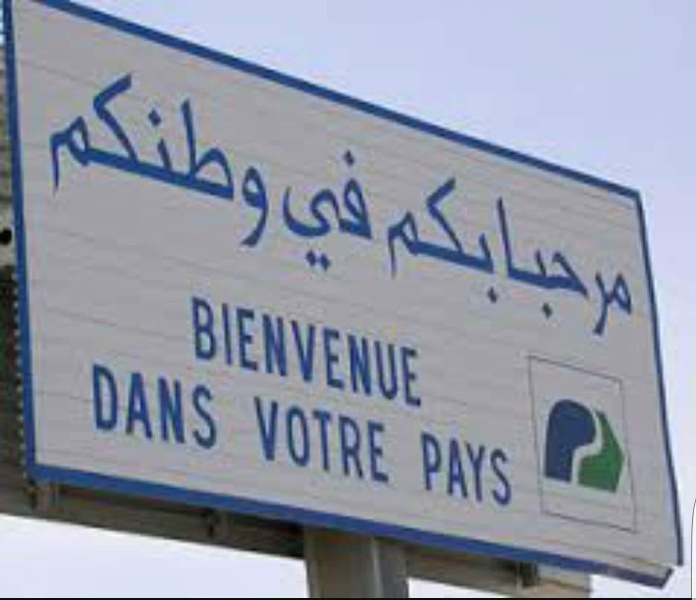text: (65, 55, 80, 255), (81, 55, 96, 255), (97, 55, 112, 255), (113, 55, 128, 255), (129, 55, 144, 255), (145, 55, 160, 255), (161, 55, 176, 255), (177, 55, 192, 255), (193, 55, 208, 255), (209, 55, 224, 255), (225, 55, 240, 255), (241, 55, 256, 255), (257, 55, 272, 255), (50, 55, 64, 255), (497, 195, 512, 346), (513, 195, 528, 346), (529, 195, 544, 346), (545, 195, 560, 346), (561, 195, 576, 346), (577, 195, 592, 346), (593, 195, 608, 346), (609, 195, 624, 346), (401, 164, 416, 306), (417, 164, 432, 306), (433, 164, 448, 306), (449, 164, 464, 306), (465, 164, 480, 306), (481, 164, 496, 306), (289, 141, 304, 281), (305, 141, 320, 281), (321, 141, 336, 281), (337, 141, 352, 281), (353, 141, 368, 281), (387, 164, 400, 306), (625, 195, 637, 346), (193, 295, 208, 411), (209, 295, 224, 411), (225, 295, 240, 411), (241, 295, 256, 411), (257, 295, 272, 411), (273, 295, 288, 411), (289, 295, 304, 411), (305, 295, 320, 411), (321, 295, 336, 411), (337, 295, 352, 411), (353, 295, 368, 411), (369, 295, 384, 411), (385, 295, 400, 411), (401, 295, 416, 411), (257, 394, 272, 485), (273, 394, 288, 485), (289, 394, 304, 485), (305, 394, 320, 485), (321, 394, 336, 485), (337, 394, 352, 485), (353, 394, 368, 485), (369, 394, 384, 485), (97, 363, 112, 452), (113, 363, 128, 452), (129, 363, 144, 452), (145, 363, 160, 452), (161, 363, 176, 452), (177, 363, 192, 452), (193, 363, 208, 452), (433, 431, 448, 509), (449, 431, 464, 509), (465, 431, 480, 509), (481, 431, 496, 509), (497, 431, 512, 509), (280, 141, 288, 281), (209, 363, 221, 452), (419, 431, 432, 509), (369, 141, 375, 281), (497, 164, 502, 306), (417, 295, 423, 411), (385, 394, 390, 485), (91, 363, 96, 452), (253, 394, 256, 485), (495, 195, 496, 346), (191, 295, 192, 411), (513, 431, 514, 509)
